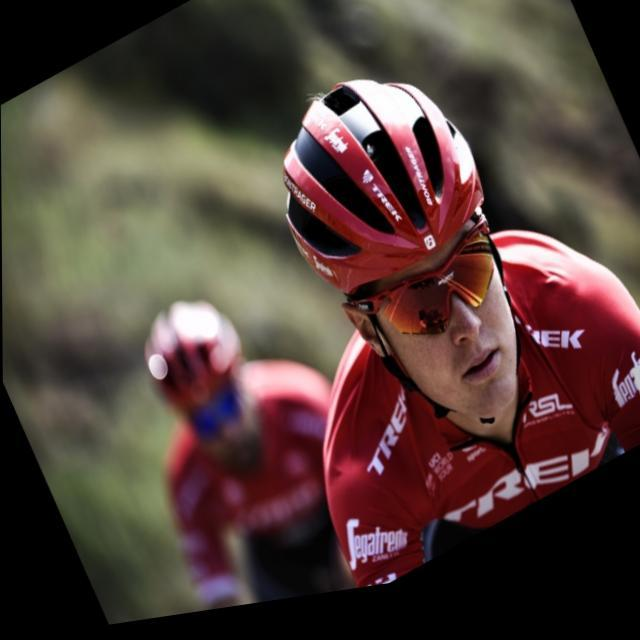Helmet: (278, 73, 527, 425)
